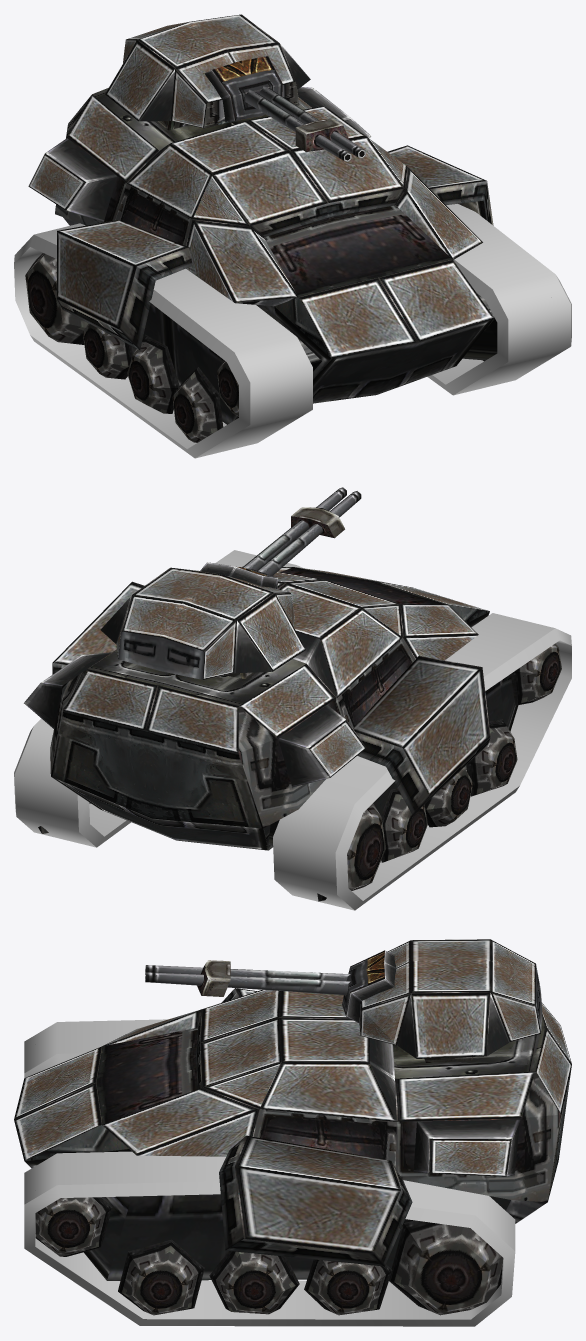
Rendered from tank-03_fbx.FBX.
3 renders of one model, top to bottom at view 1: azimuth 30°, elevation 25°; view 2: azimuth 150°, elevation 25°; view 3: azimuth 270°, elevation 25°, orthographic. The views are drawn at different scales.
Parts seen in each view (by area): view 1: body, treads_R, turret, treads_L, barrel, wheel-10, wheel-08, wheel-07, wheel-09, wheel-06; view 2: body, treads_R, turret, treads_L, barrel, wheel-07, wheel-10, wheel-09, wheel-06, wheel-08; view 3: body, treads_L, turret, wheel-05, wheel-02, barrel, wheel-03, wheel-04, treads_R, wheel-01.
Part boxes in pixels (x1,y1,x2,y2): body: [28, 87, 497, 424]; treads_R: [14, 223, 312, 458]; turret: [105, 14, 310, 130]; treads_L: [427, 204, 571, 395]; barrel: [245, 86, 365, 162]; wheel-10: [25, 253, 88, 344]; wheel-08: [127, 335, 179, 413]; wheel-07: [172, 367, 223, 442]; wheel-09: [82, 323, 132, 379]; wheel-06: [217, 360, 238, 416]; body: [24, 566, 518, 850]; treads_R: [273, 613, 571, 910]; turret: [100, 562, 305, 679]; treads_L: [14, 550, 303, 847]; barrel: [242, 487, 361, 575]; wheel-07: [466, 719, 517, 796]; wheel-10: [317, 803, 385, 901]; wheel-09: [381, 788, 427, 862]; wheel-06: [510, 643, 561, 705]; wheel-08: [424, 767, 472, 827]; body: [14, 988, 571, 1280]; treads_L: [24, 1151, 515, 1326]; turret: [342, 939, 542, 1062]; wheel-05: [389, 1220, 503, 1315]; wheel-02: [118, 1239, 204, 1315]; barrel: [145, 960, 350, 996]; wheel-03: [209, 1251, 299, 1314]; wheel-04: [304, 1259, 392, 1315]; treads_R: [24, 1019, 167, 1077]; wheel-01: [35, 1197, 112, 1256].
Bounding box in the file's own units: 6.28 × 4.44 × 7.72.
